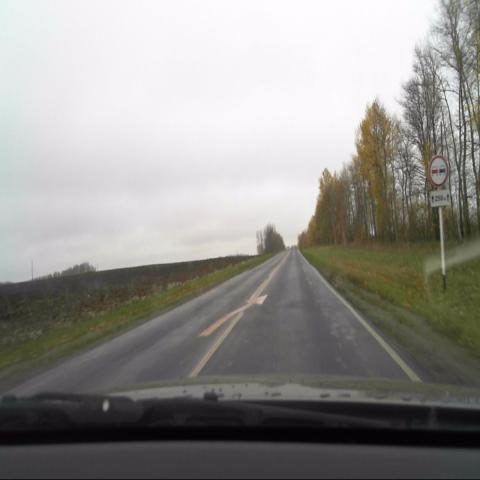8_2_1: (430, 190, 450, 207)
